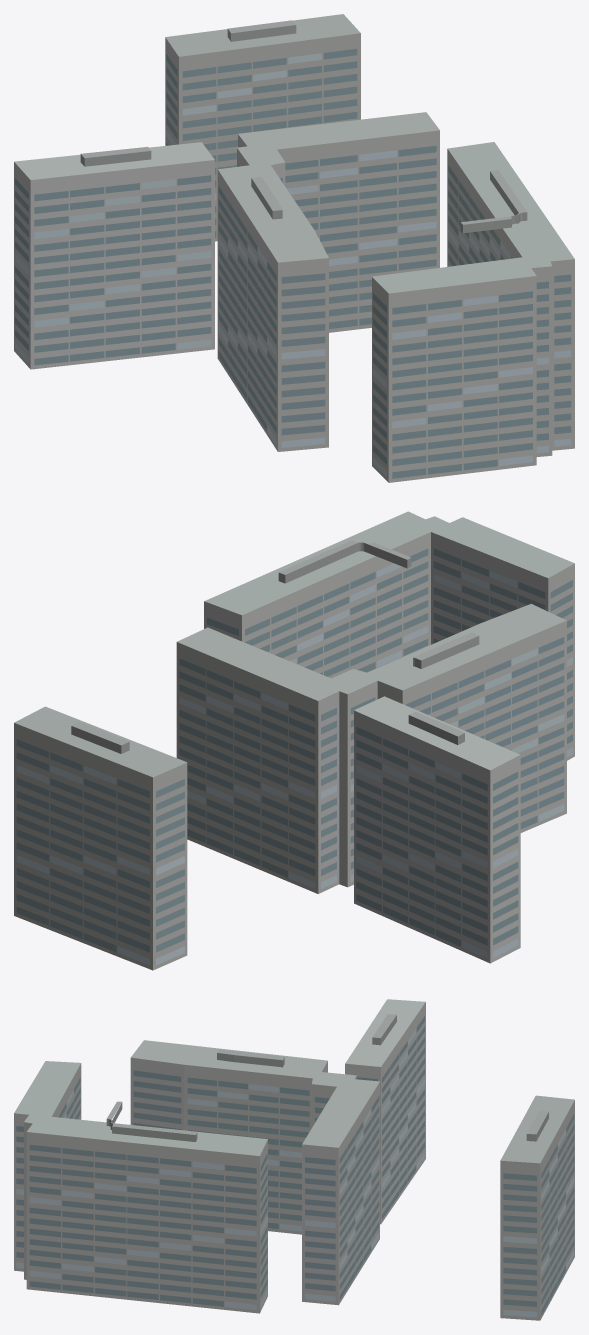
Rendered from apt-a13982005.glb.
3 views of the same model, one above another, from view 1: azimuth 30°, elevation 25°; view 2: azimuth 150°, elevation 25°; view 3: azimuth 270°, elevation 25° (orthographic). The views are drawn at different scales.
Parts seen in each view (by area): view 1: apt-a13982005; view 2: apt-a13982005; view 3: apt-a13982005.
Boxes of the visible parts, left/top/right/bottom form: apt-a13982005: left=14, top=14, right=574, bottom=482; apt-a13982005: left=14, top=511, right=574, bottom=970; apt-a13982005: left=14, top=999, right=574, bottom=1320.
Bounding box in the file's own units: 102 × 47.81 × 148.
